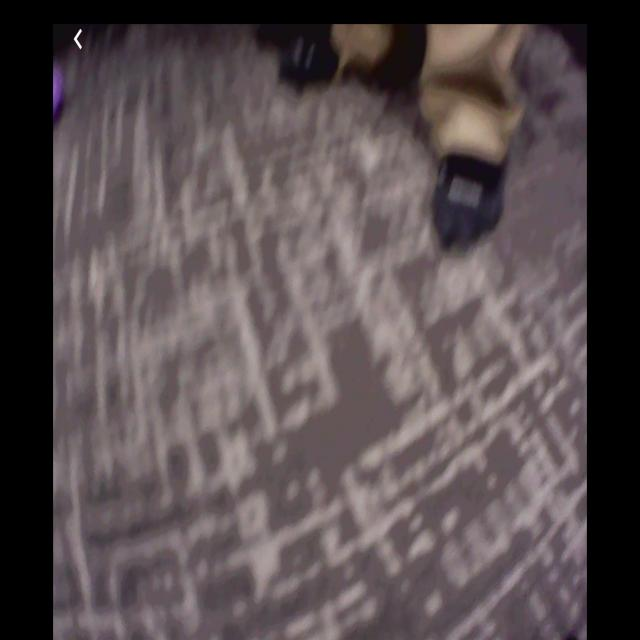ball: (54, 65, 66, 119)
